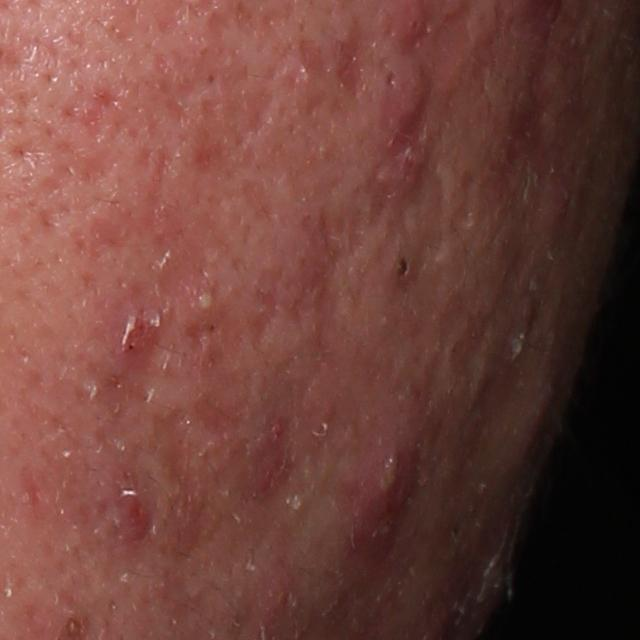atrophic_scar: (430, 76, 579, 581), (245, 212, 358, 349), (149, 409, 207, 566), (55, 69, 123, 181), (328, 13, 373, 95)
comedo: (389, 249, 412, 288)
nodule: (337, 418, 423, 553)
papule: (110, 290, 172, 363), (387, 67, 433, 139), (107, 490, 150, 544)
pustule: (192, 292, 214, 315)
